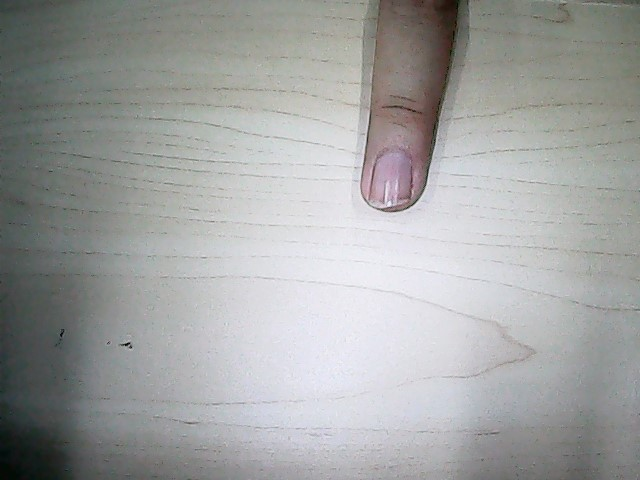nail: (372, 151, 407, 209)
